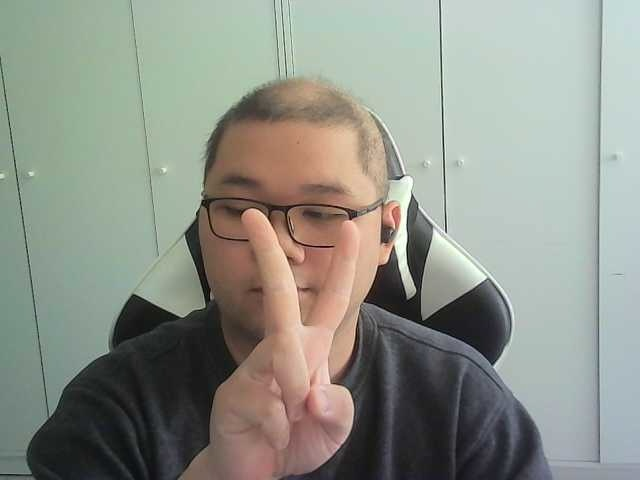Two: (208, 208, 354, 476)
